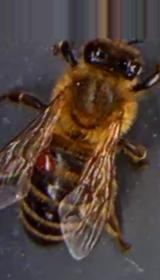varroa_mite: (38, 150, 58, 172)
